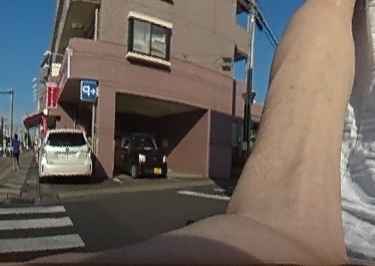person: (9, 131, 20, 168)
